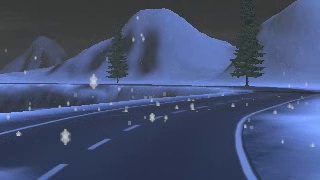Lane: (0, 86, 316, 179)
